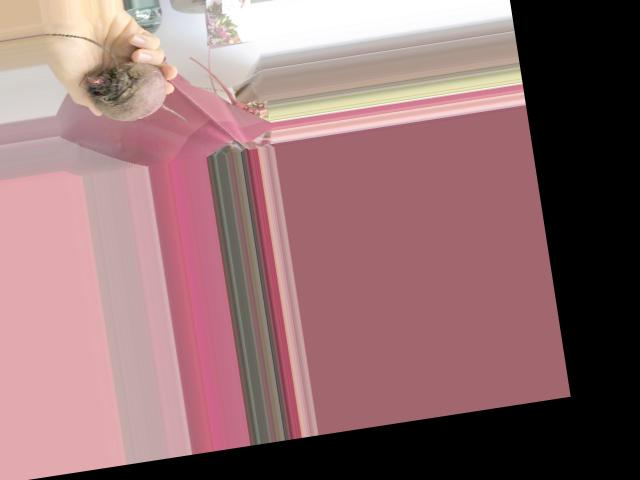beet: (44, 13, 188, 142)
